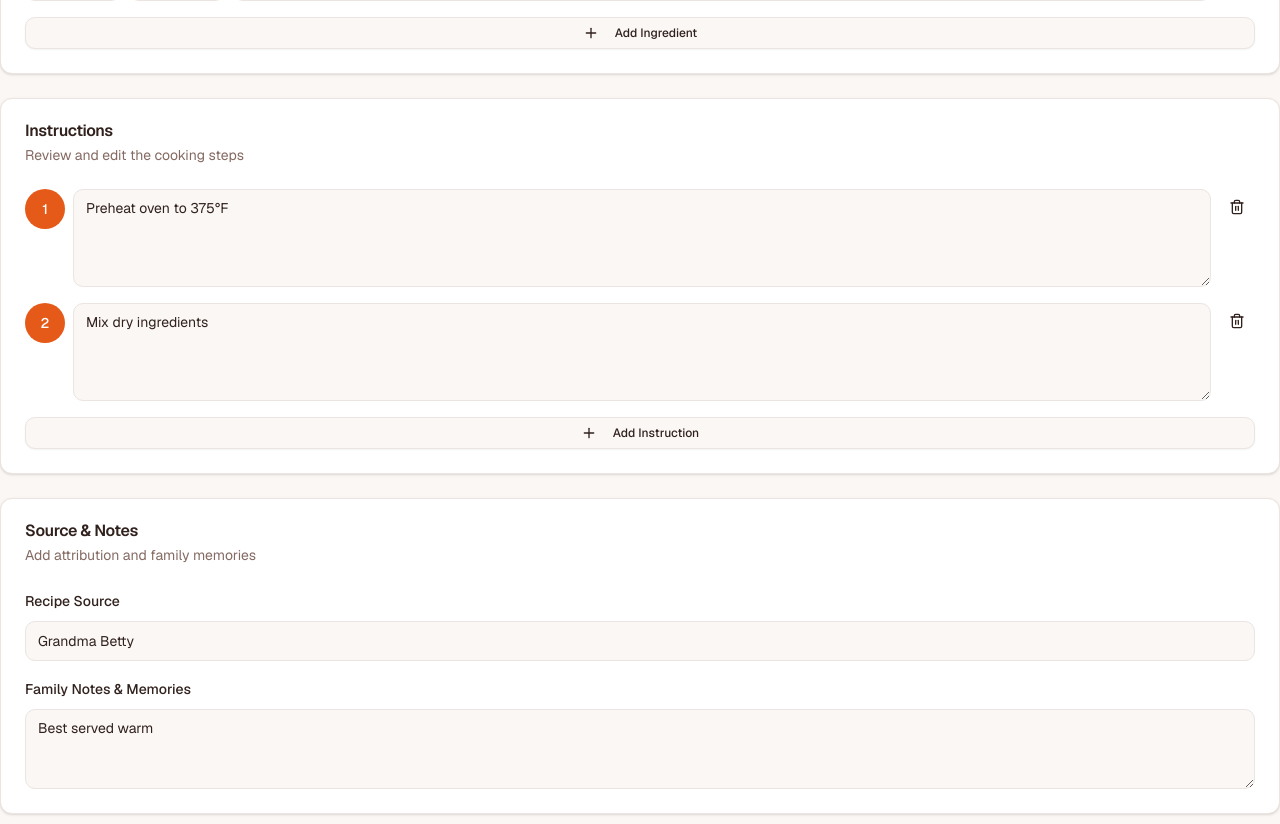
Test: OCRReviewForm › adds new instruction
The width and height of the screenshot is (1280, 824).
(page scrolled)
Step 1. Click the button "Add Instruction" → (640, 433), box [25,417,1255,449]
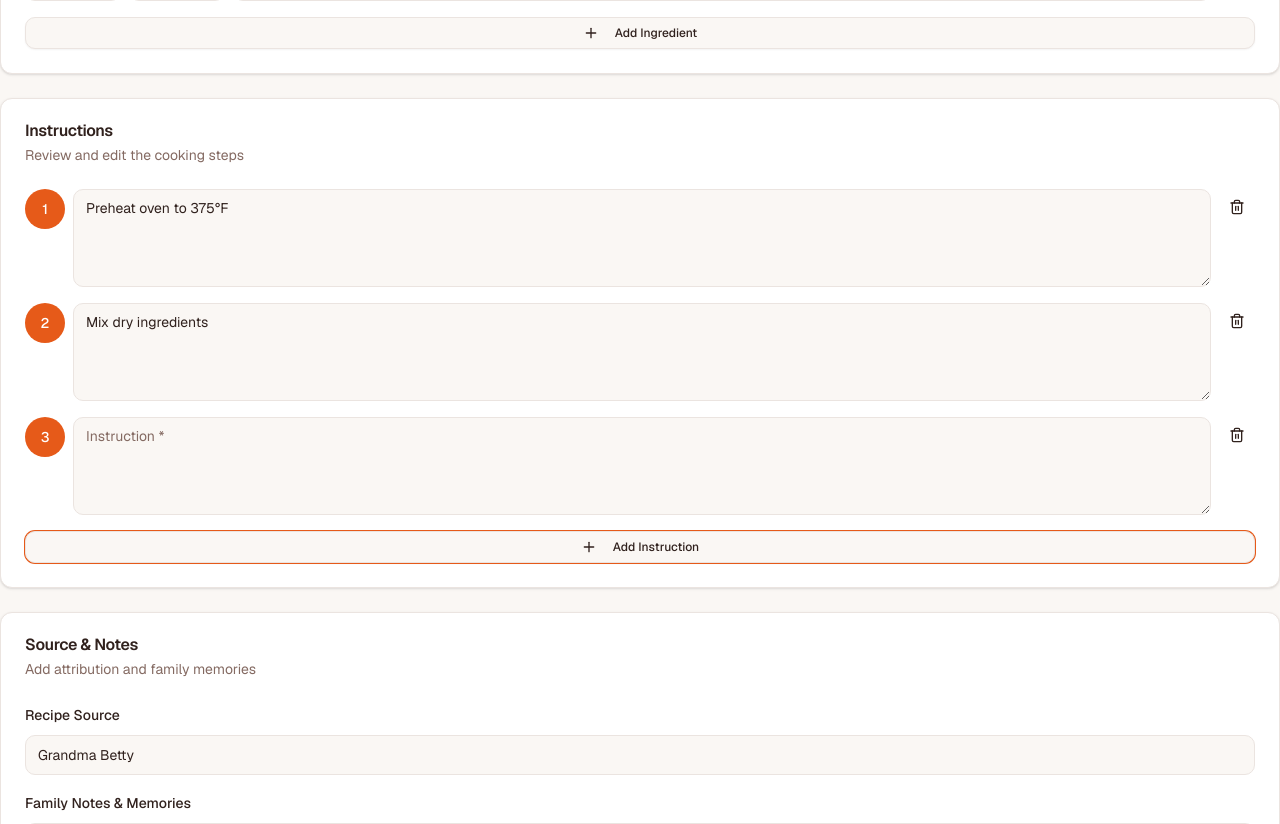
Check: the number of text boxes with placeholder "Instruction *" is 3, box [73,189,1211,287]; [73,303,1211,401]; [73,417,1211,515]
